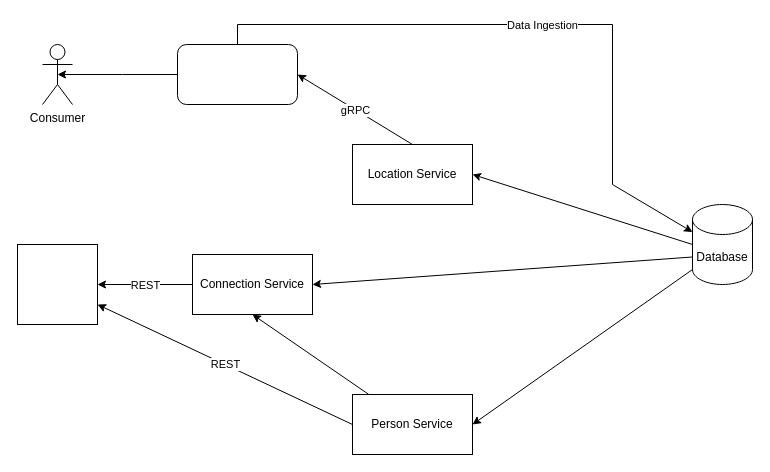
The diagram is 770 pixels wide and 472 high, and some of its shapes have lost their labels. Each missing label, with the centre of its shape:
Front End: [57,284]
Kafka: [237,74]
